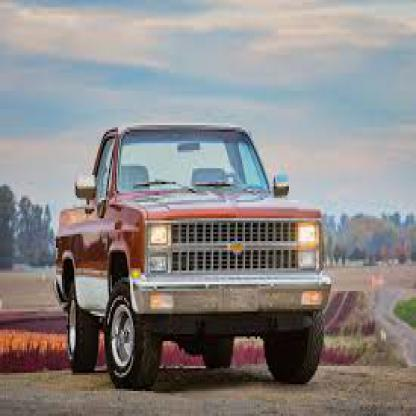pickup: (53, 127, 331, 389)
